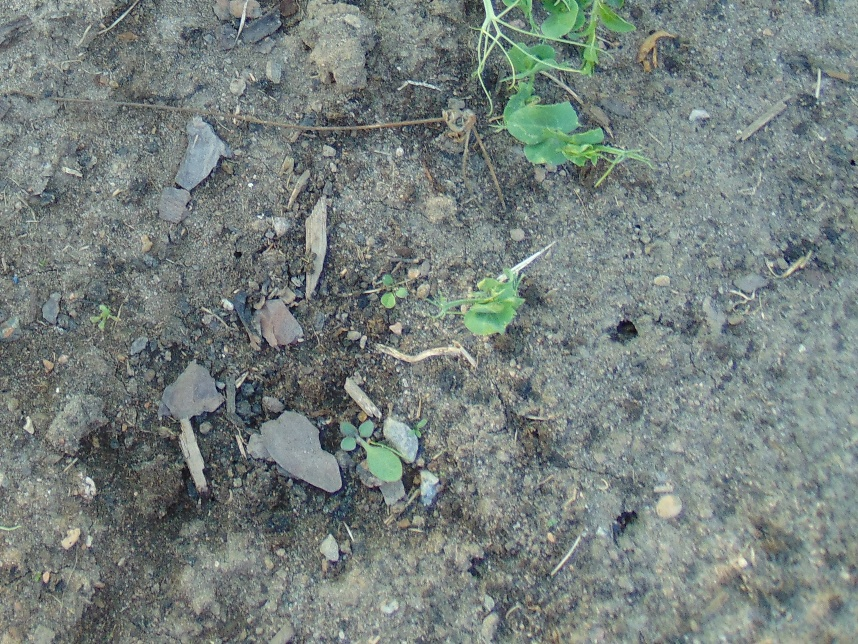crop: (495, 79, 638, 184), (477, 1, 634, 75), (436, 276, 531, 336)
weed: (334, 420, 406, 482), (380, 275, 409, 309)
